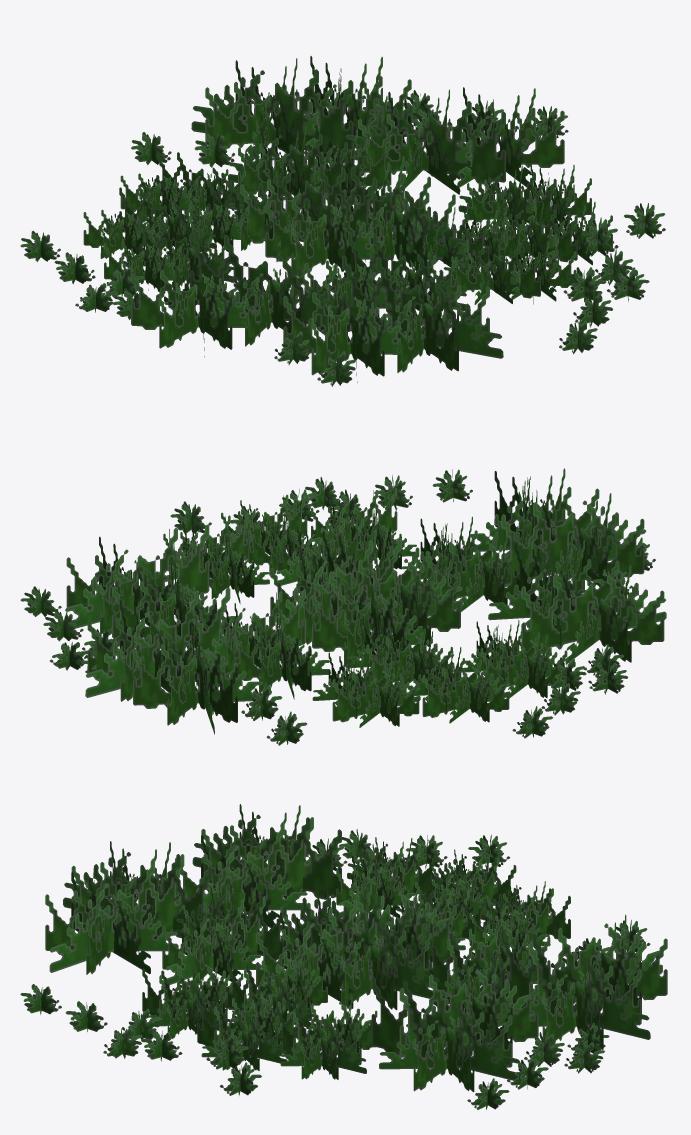
The model's file is GrassCluster_1.fbx.
The picture shows the model from 3 angles, top to bottom: view 1: azimuth 30°, elevation 25°; view 2: azimuth 150°, elevation 25°; view 3: azimuth 270°, elevation 25°; orthographic projection. The views are drawn at different scales.
Parts seen in each view (by area): view 1: Plane.001; view 2: Plane.001; view 3: Plane.001.
Part boxes in pixels (x1=…): Plane.001: x1=20, y1=56, x2=665, y2=386; Plane.001: x1=20, y1=468, x2=666, y2=745; Plane.001: x1=20, y1=804, x2=667, y2=1109.
Bounding box in the file's own units: 262 × 41.39 × 269.
